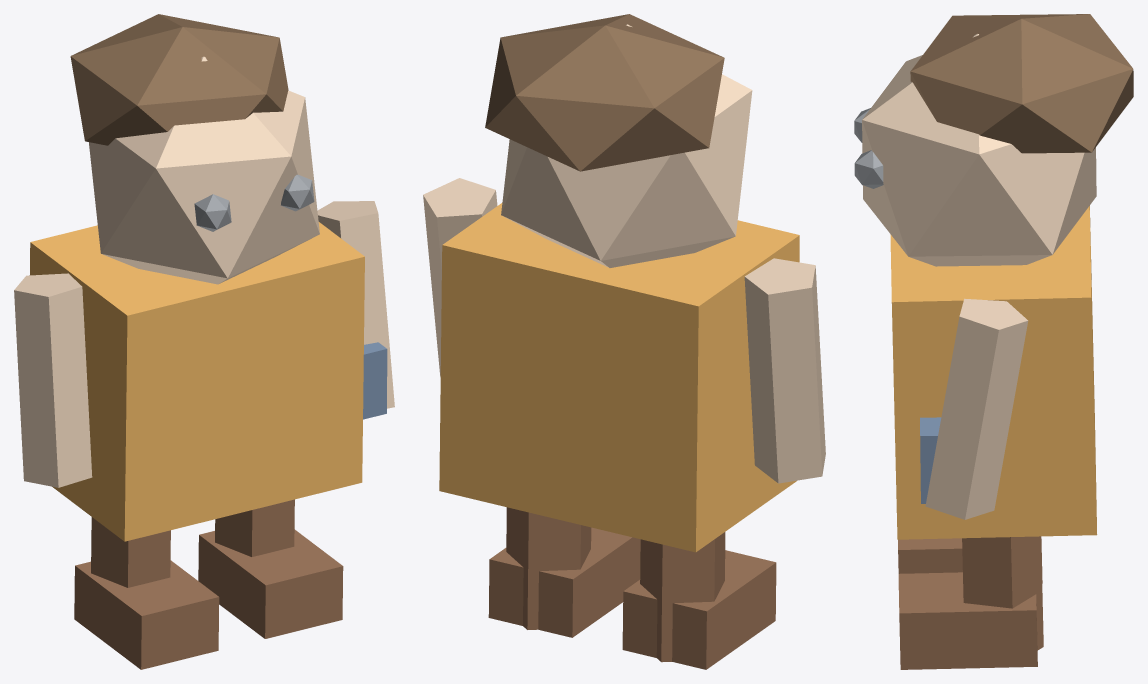
The model's file is npcpose_villager_idle_04.glb.
3 views of the same model, side by side, from view 1: azimuth 30°, elevation 25°; view 2: azimuth 150°, elevation 25°; view 3: azimuth 270°, elevation 25° (orthographic). The views are drawn at different scales.
Visible parts, largest first — view 1: npcpose; view 2: npcpose; view 3: npcpose.
Boxes of the visible parts, x1,y1,x2,y2 form: npcpose: [14, 14, 394, 669]; npcpose: [423, 14, 825, 669]; npcpose: [854, 14, 1133, 669].
Bounding box in the file's own units: 0.6982 × 1.06 × 0.448.
